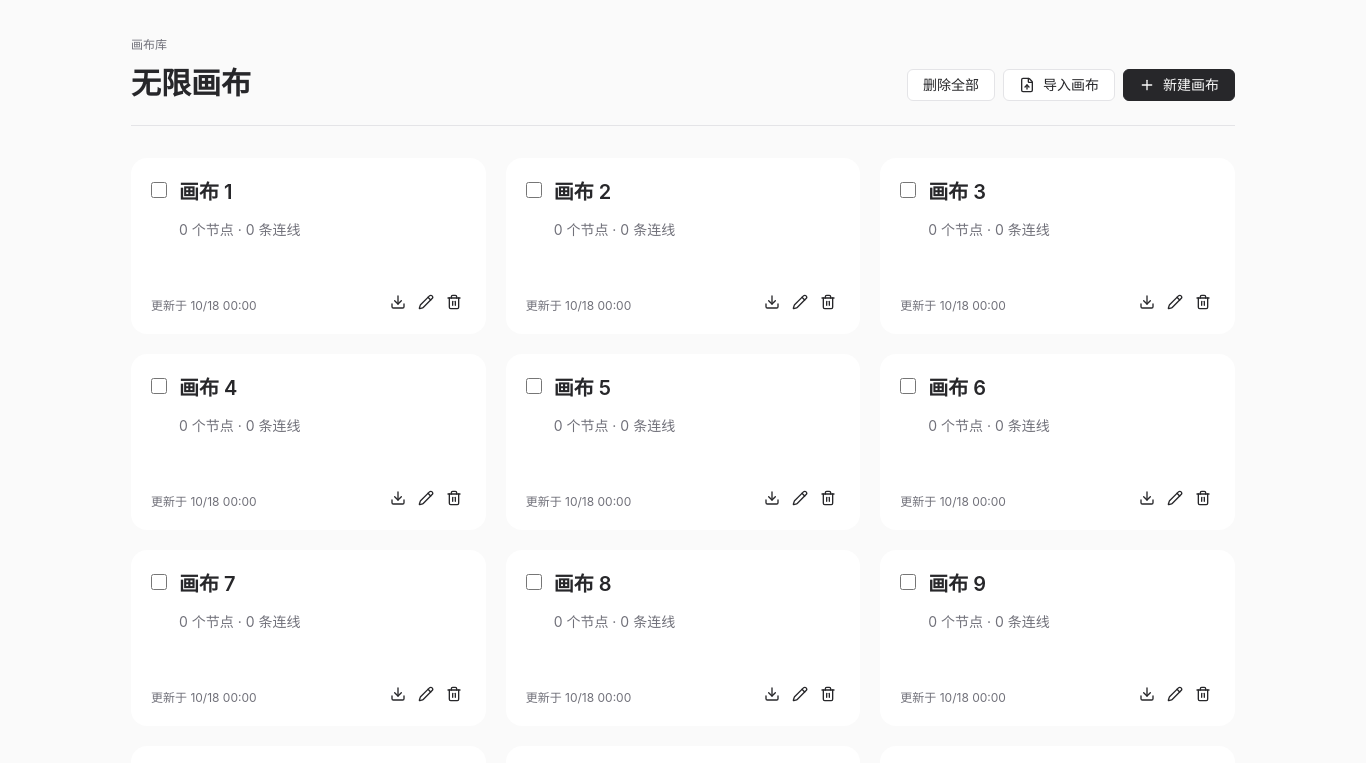
Test: 画布库云端操作失败恢复 › 删除后末页消失会回到上一页，并保留跨页失败选择和错误提示
Step 1. Click the 1st checkbox → (159, 190), box [151,182,167,198]
(page scrolled)
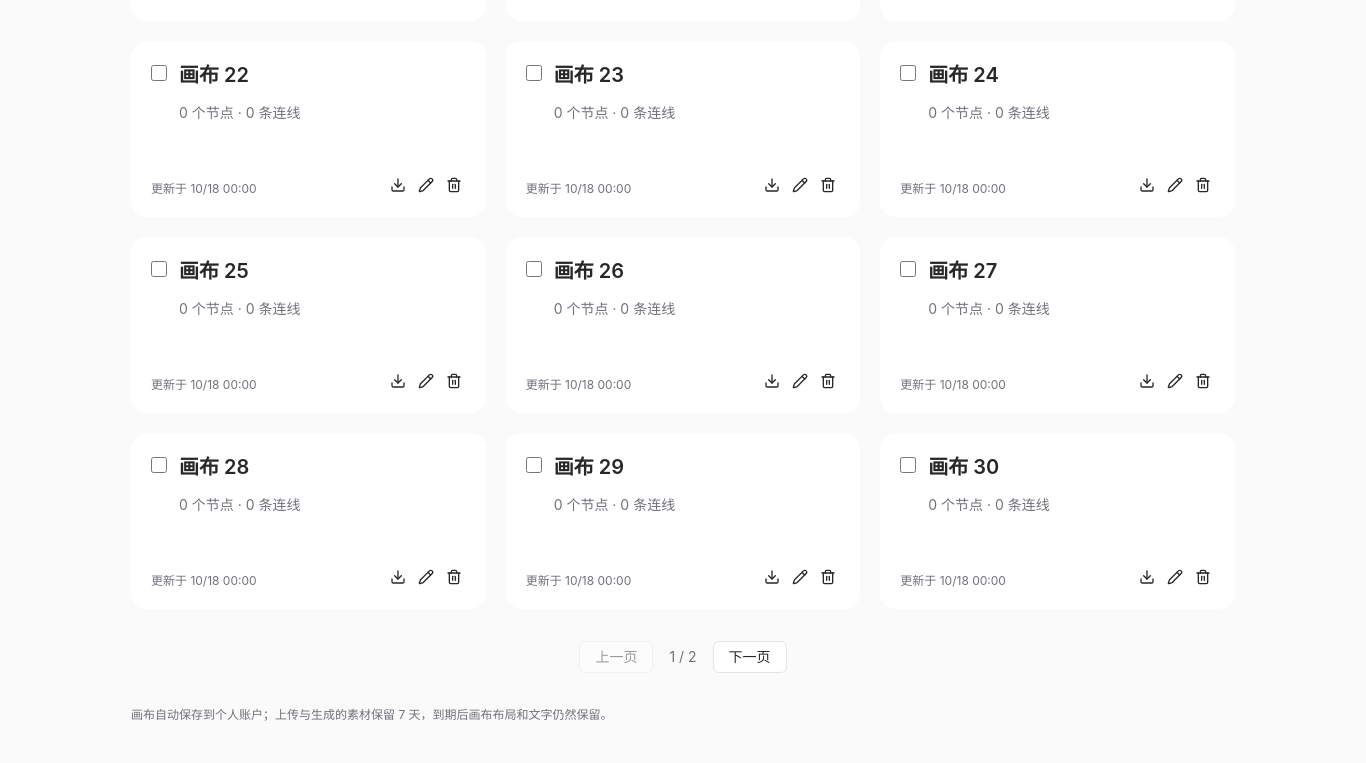
Step 2. Click the button "下一页" → (750, 657), box [713,641,787,673]
(page scrolled)
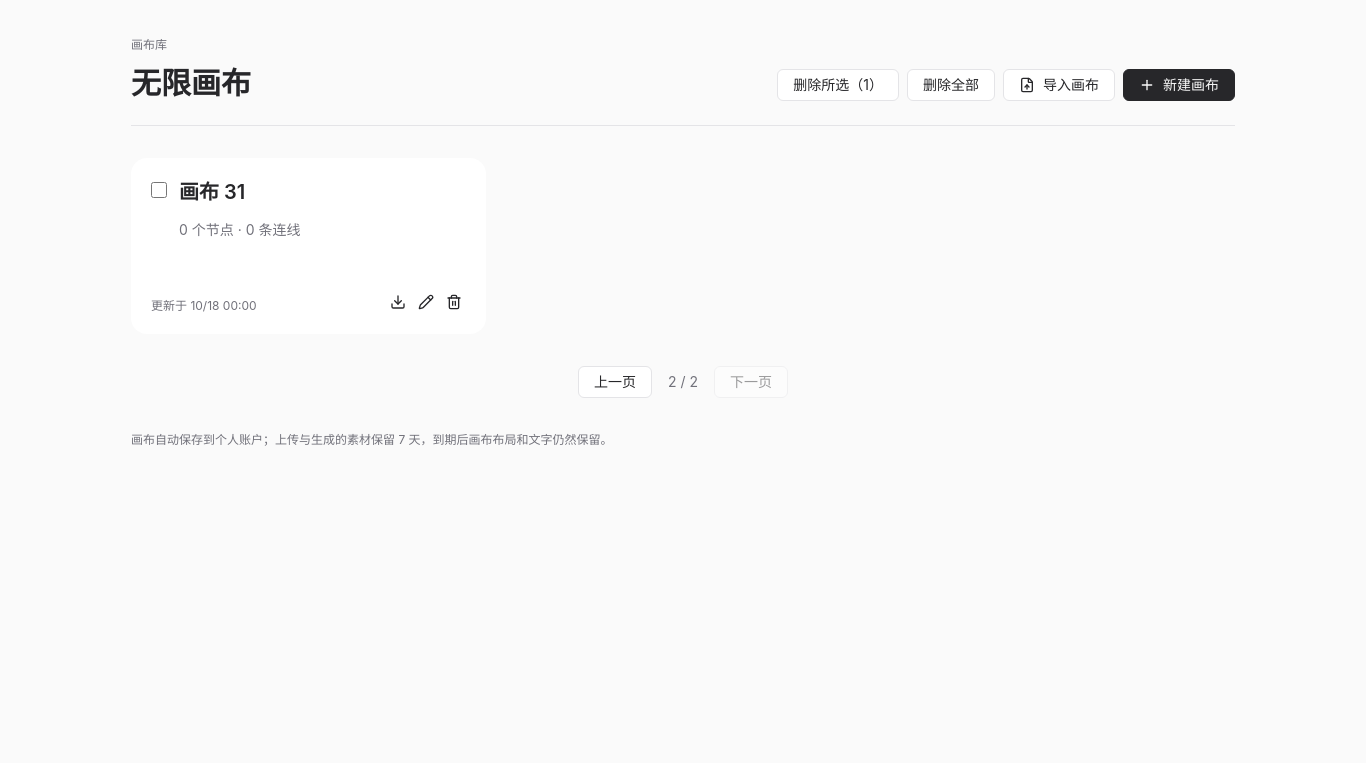
Step 3. Click the checkbox → (159, 190), box [151,182,167,198]
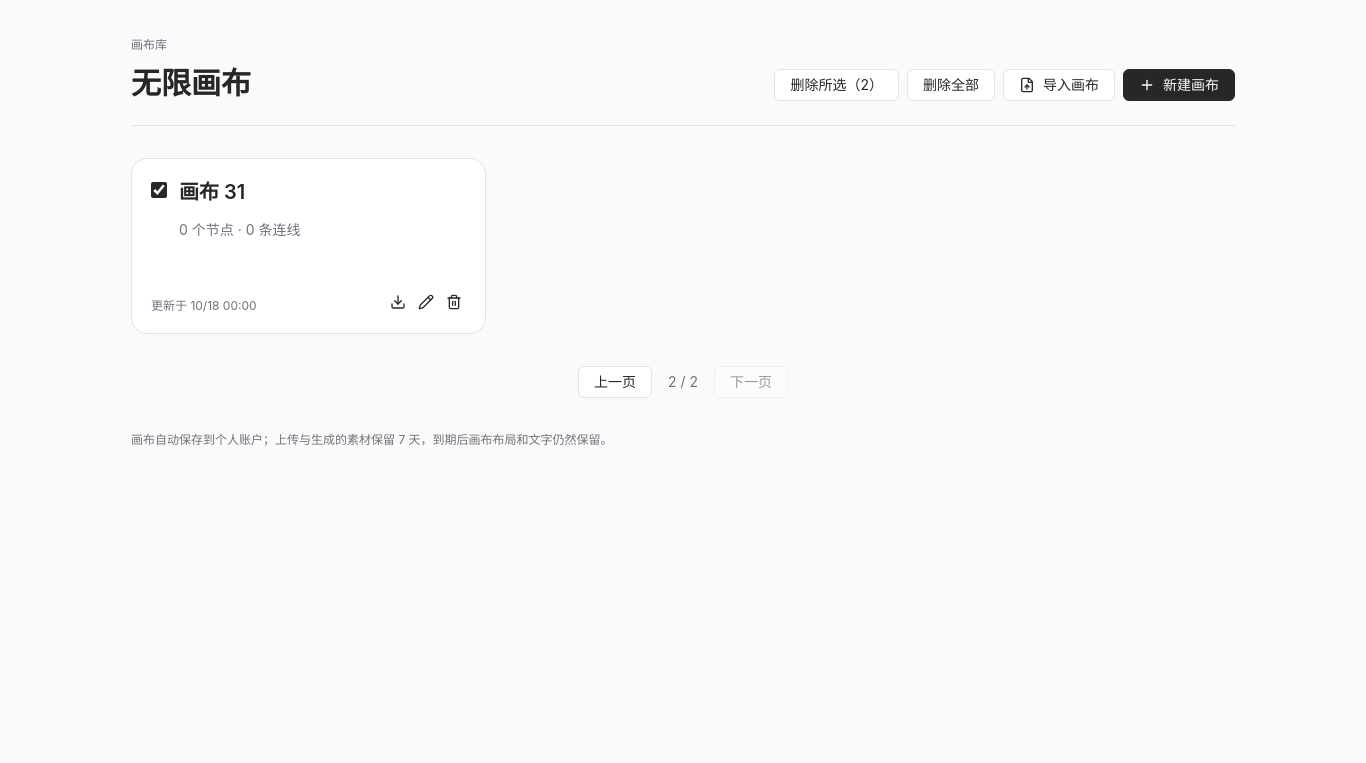
Step 4. Click the button "删除所选（2）" → (837, 85), box [774,69,899,101]
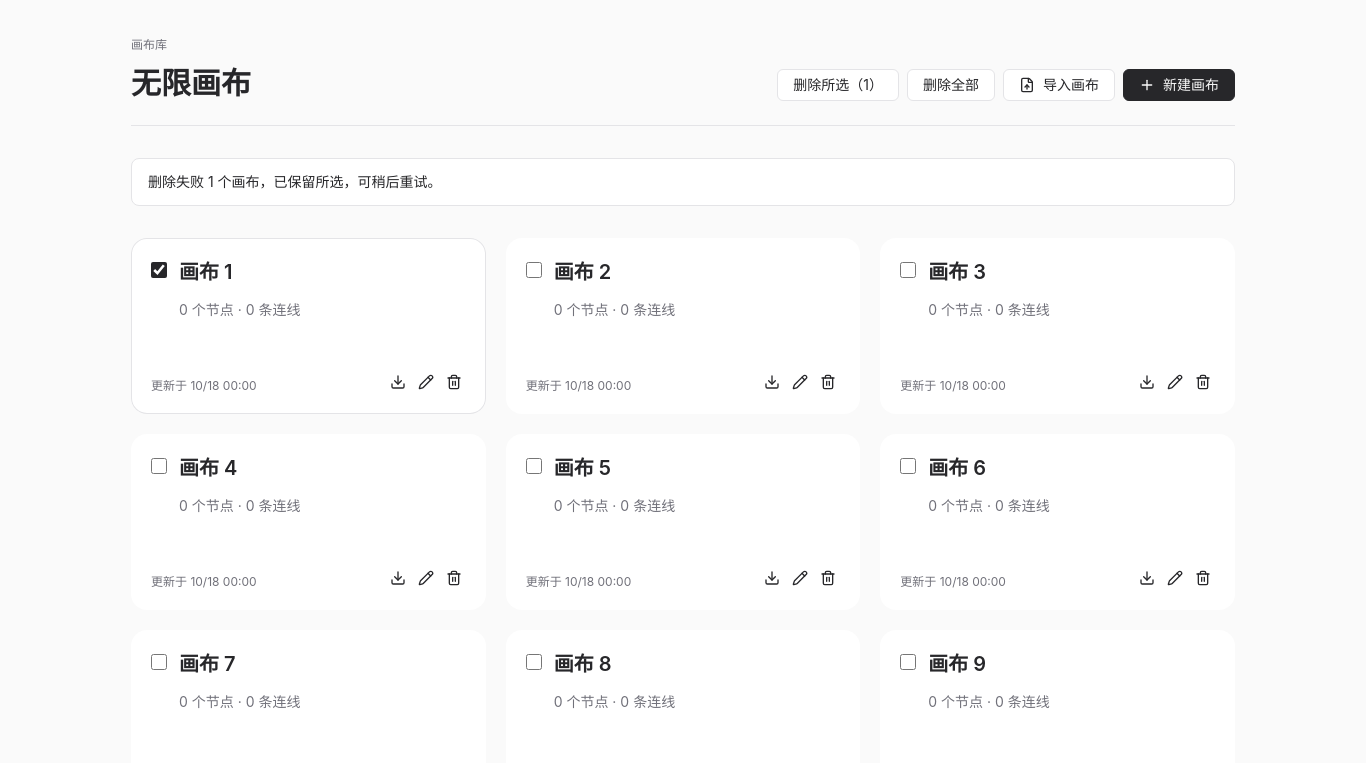
expect the number of elements with class "library-card" is 30: met
expect the message "删除失败 1 个画布，已保留所选，可稍后重试。" is shown: met, box [131,158,1235,206]
